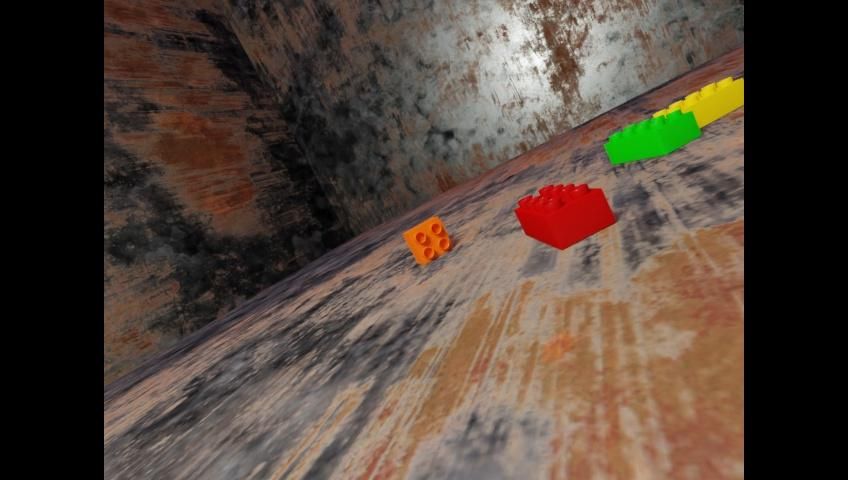2x2_orange: (402, 216, 452, 264)
4x2_green: (604, 108, 701, 164)
4x2_red: (513, 182, 615, 249)
4x2_yellow: (652, 76, 743, 128)
